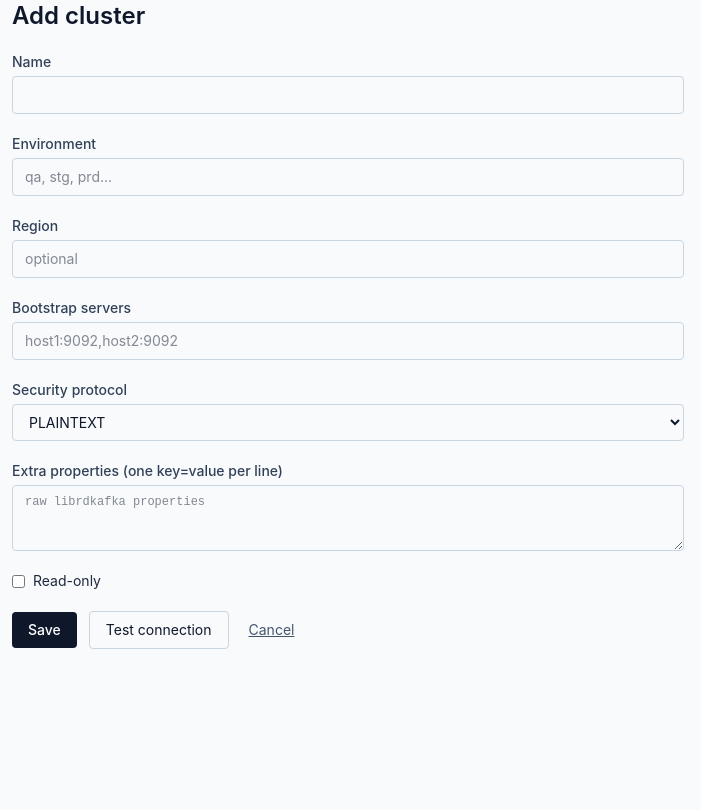
Test: ClusterForm field visibility › SASL_SSL shows both SASL and truststore fields
Select "SASL_SSL" in the dropdown labelled "Security protocol" at (348, 422), box [12, 404, 684, 441]
(page scrolled)
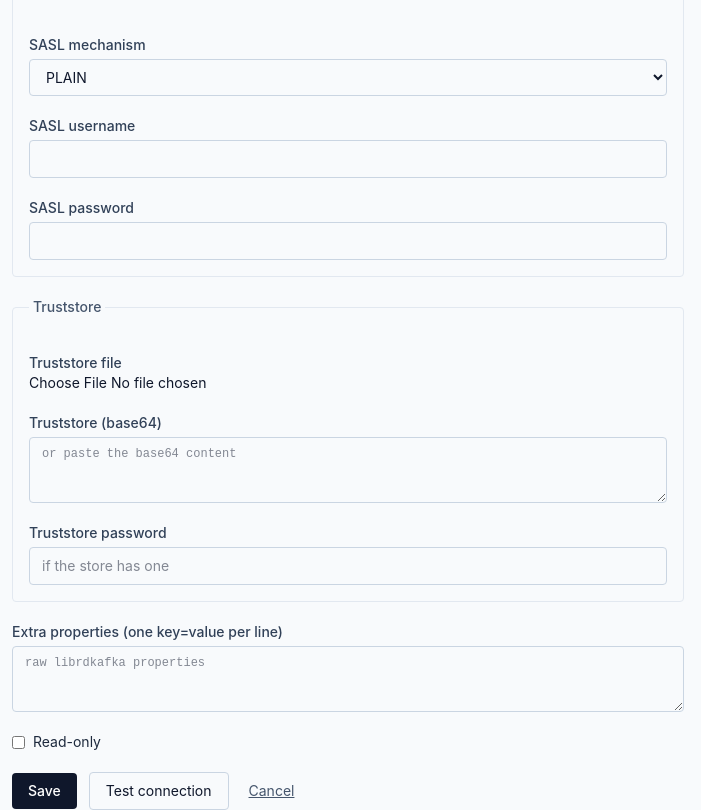
Result: the dropdown labelled "SASL mechanism" is shown at [29, 59, 667, 96]
Result: the field labelled "SASL username" is shown at [29, 140, 667, 178]
Result: the password field labelled "SASL password" is shown at [29, 222, 667, 260]
